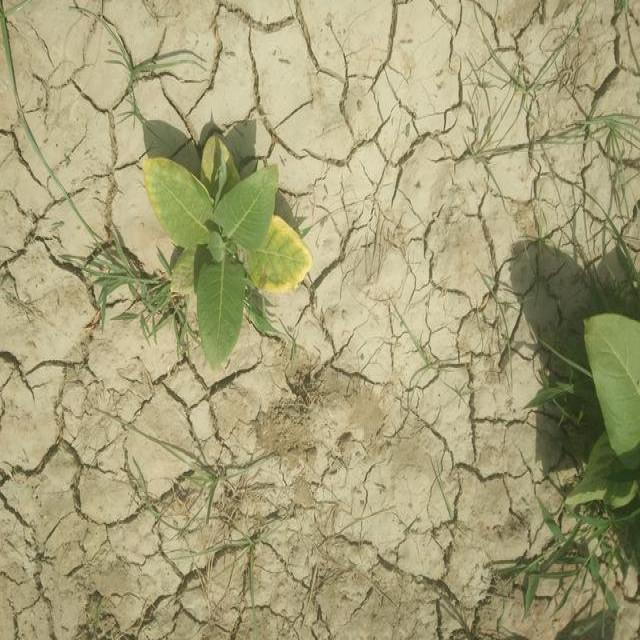crop: (140, 142, 306, 358)
